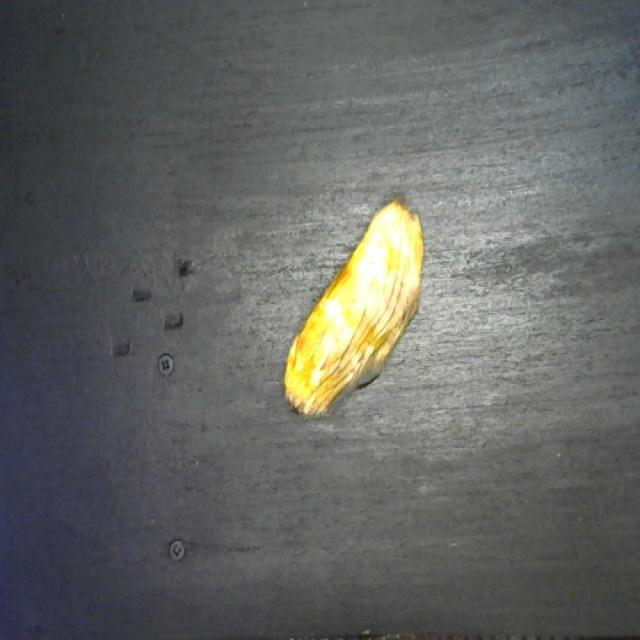biodegradable: (279, 182, 432, 426)
